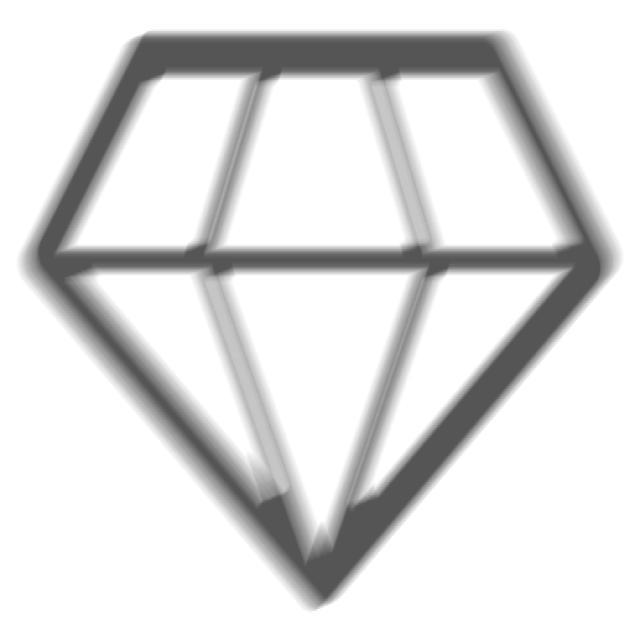diamond: (6, 26, 629, 624)
